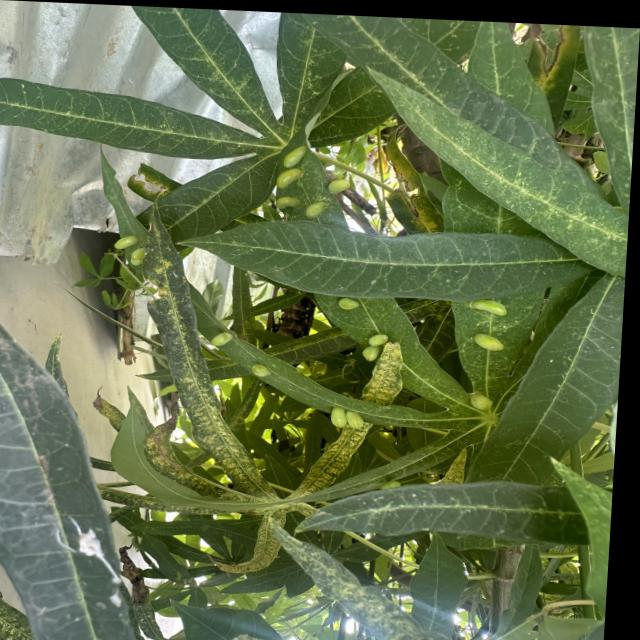Mosca: (463, 293, 519, 358), (266, 180, 329, 230), (108, 223, 155, 279), (326, 394, 383, 439), (263, 134, 312, 186), (329, 159, 368, 205), (198, 316, 238, 355), (248, 354, 284, 396), (355, 334, 396, 366), (466, 385, 496, 426), (334, 285, 365, 318)
